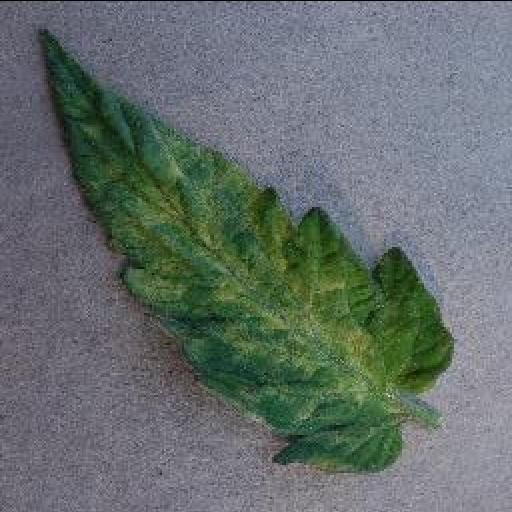disease_tomato: (38, 26, 450, 468)
